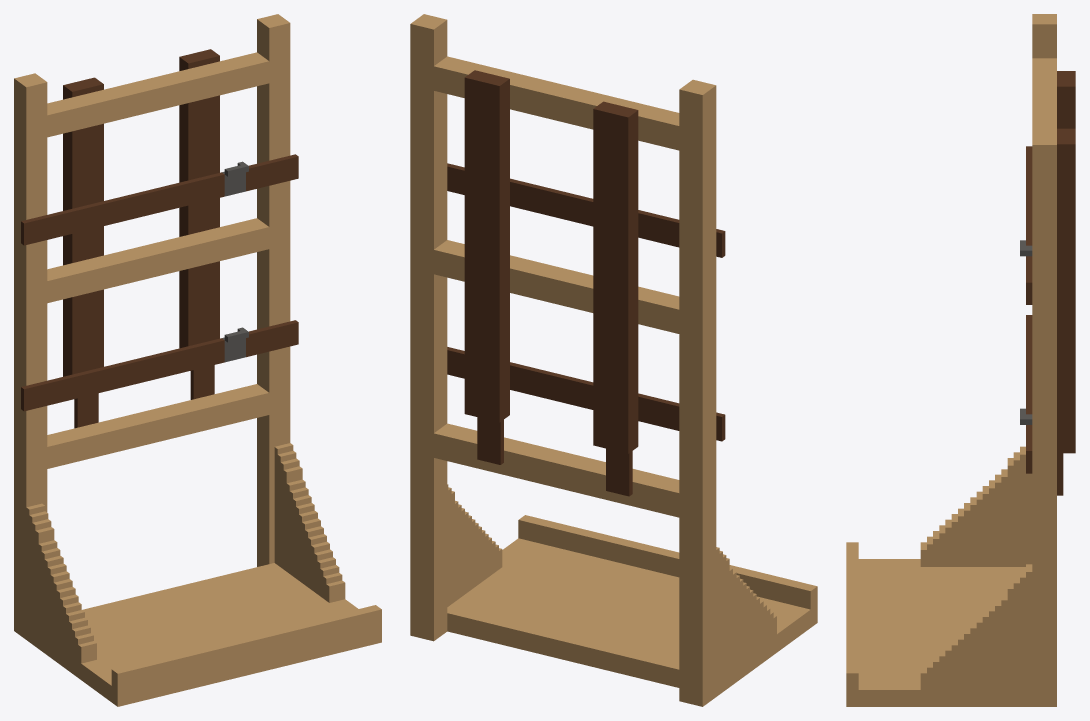
The model's file is bigframe_pack.glb.
The picture shows the model from 3 angles, left to right: view 1: azimuth 30°, elevation 25°; view 2: azimuth 150°, elevation 25°; view 3: azimuth 270°, elevation 25°; orthographic projection. The views are drawn at different scales.
Visible parts, largest first — view 1: bigframe_pack:compound; view 2: bigframe_pack:compound; view 3: bigframe_pack:compound.
Part boxes in pixels (box(x1,y1,x2,y2)): bigframe_pack:compound: box(14, 14, 381, 706); bigframe_pack:compound: box(410, 14, 817, 706); bigframe_pack:compound: box(846, 14, 1075, 706).
Bounding box in the file's own units: 0.52 × 1 × 0.37.
